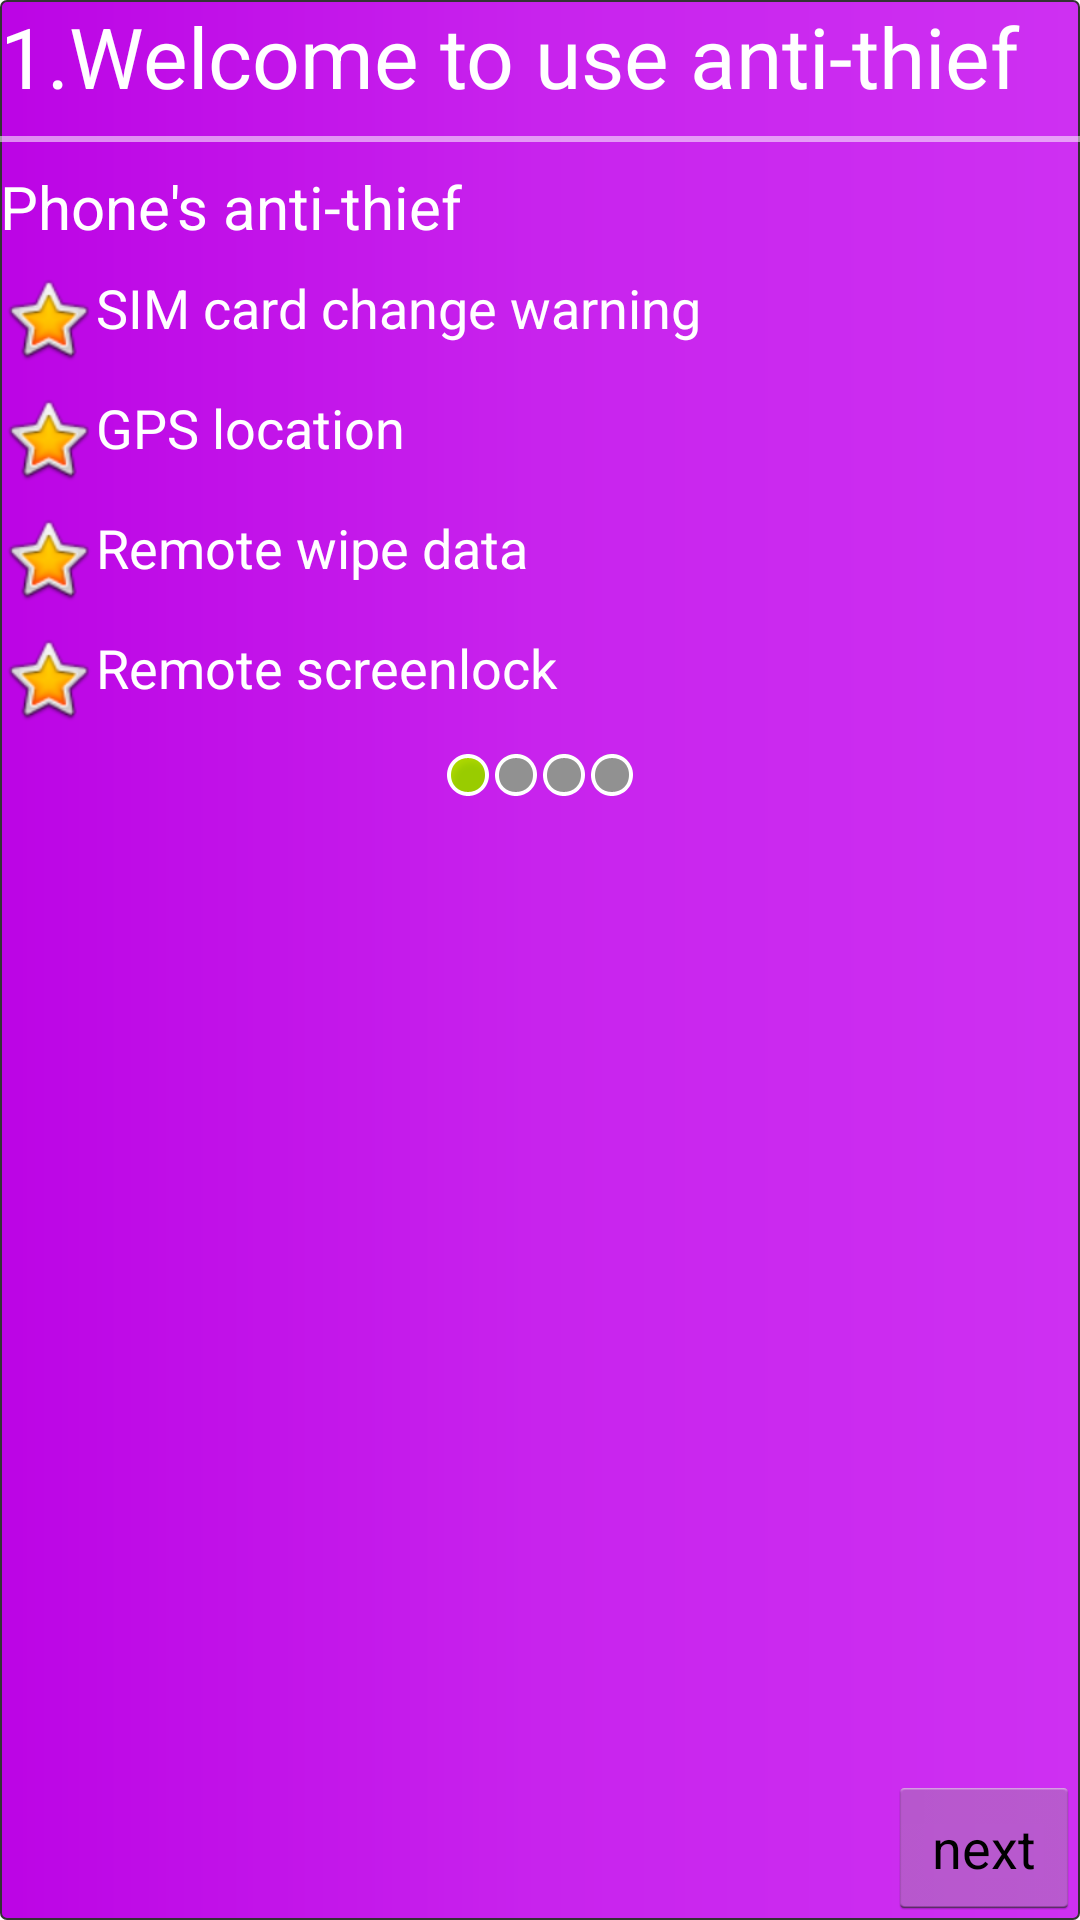

Icons on this 1080*1920 Android screen, each with its box as (x1, y1, x2, y2):
presence invisible: (495, 754, 537, 796), (543, 754, 585, 796), (591, 754, 633, 796)
presence online: (447, 754, 489, 796)
